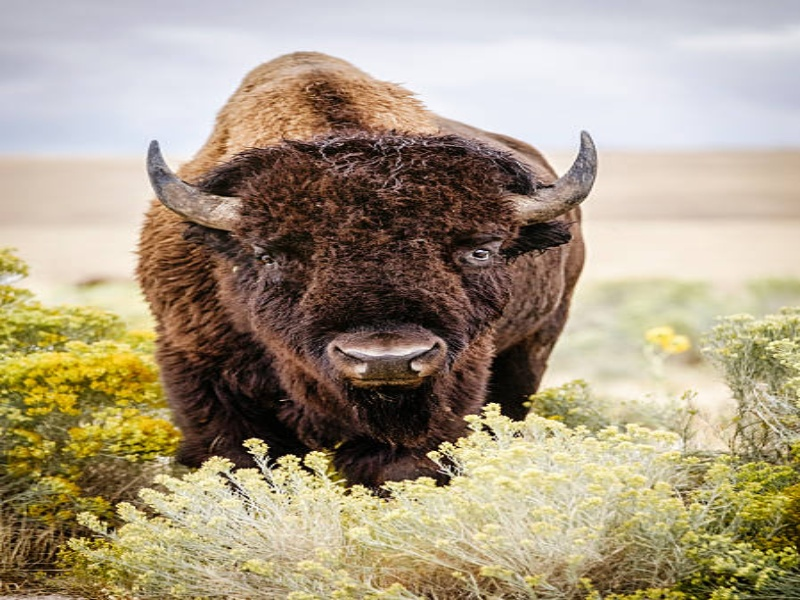buffalo: (129, 46, 599, 505)
